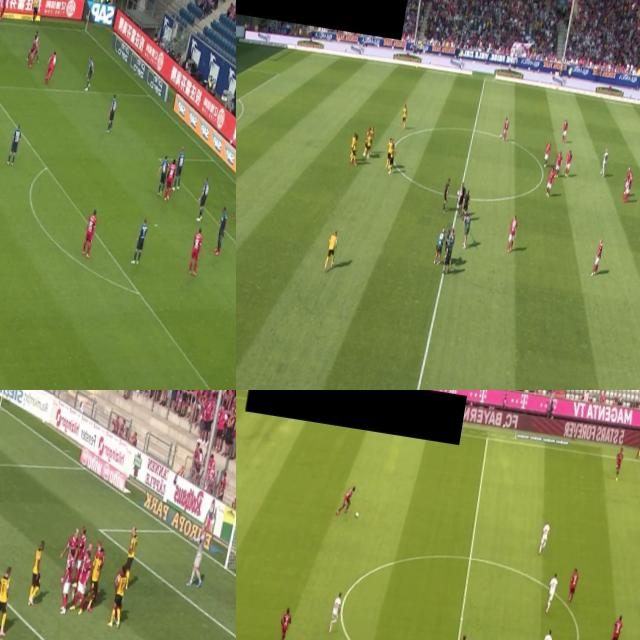ball: (456, 184, 460, 199), (354, 510, 360, 520)
player: (184, 531, 210, 591), (24, 538, 46, 608), (108, 566, 130, 634), (82, 550, 104, 612), (70, 552, 92, 610), (56, 552, 76, 614), (59, 532, 80, 582), (123, 528, 140, 586), (5, 121, 26, 165), (0, 564, 13, 633), (72, 528, 88, 584), (132, 217, 150, 266), (326, 593, 346, 637), (82, 210, 100, 258), (322, 228, 340, 274), (590, 234, 606, 277), (274, 605, 293, 640), (190, 227, 204, 274), (214, 208, 228, 255), (544, 574, 560, 614), (334, 485, 354, 517), (154, 154, 170, 193), (196, 176, 210, 220), (536, 519, 552, 556), (163, 160, 177, 200), (106, 92, 120, 130), (544, 164, 558, 202), (174, 144, 186, 188), (45, 48, 60, 83), (566, 568, 580, 604), (82, 53, 95, 90), (507, 214, 519, 252), (606, 615, 624, 640), (28, 30, 42, 60), (27, 36, 40, 68), (612, 449, 624, 482), (598, 146, 610, 178), (362, 125, 371, 159), (385, 136, 395, 166), (544, 138, 554, 167), (553, 150, 563, 178), (624, 172, 634, 199), (564, 150, 574, 177), (387, 143, 396, 173), (623, 164, 633, 190), (560, 116, 570, 142), (364, 134, 374, 159), (502, 116, 510, 146), (350, 132, 358, 160), (366, 126, 374, 154), (536, 628, 554, 640), (0, 0, 10, 20), (351, 137, 358, 165), (401, 104, 408, 130), (232, 176, 236, 221)
